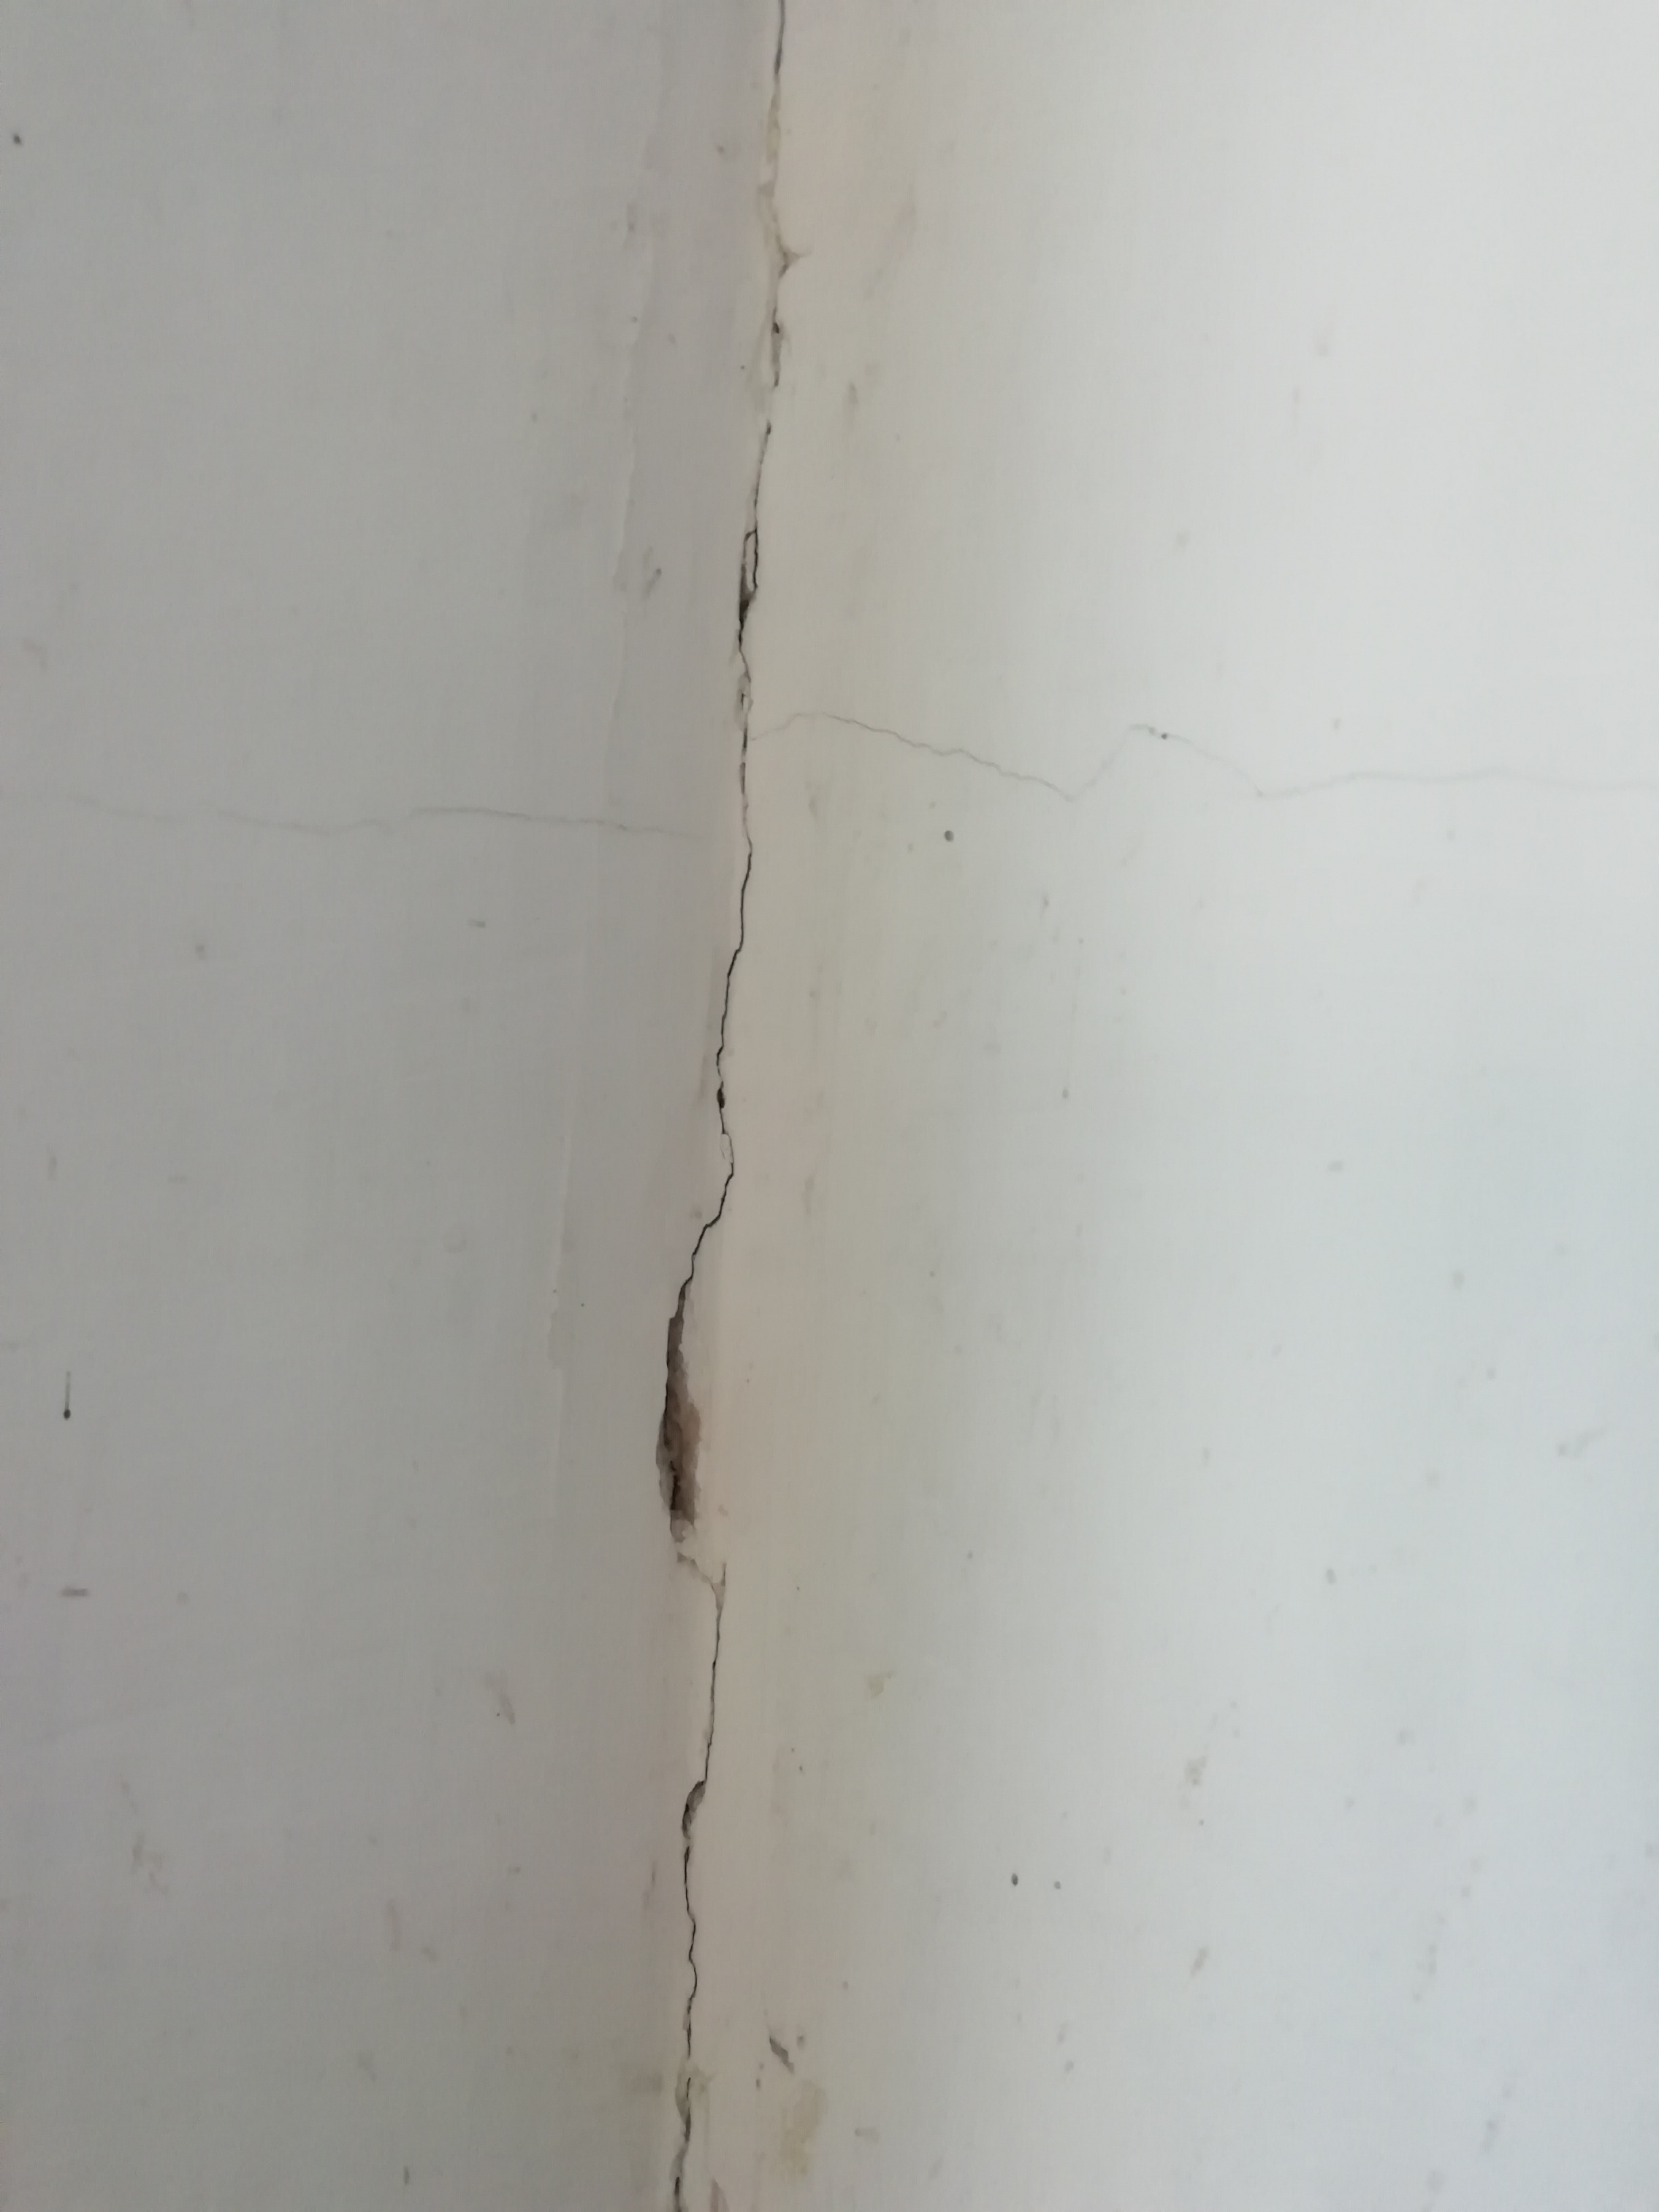Crack: (633, 1216, 751, 2071), (709, 481, 774, 1216)
